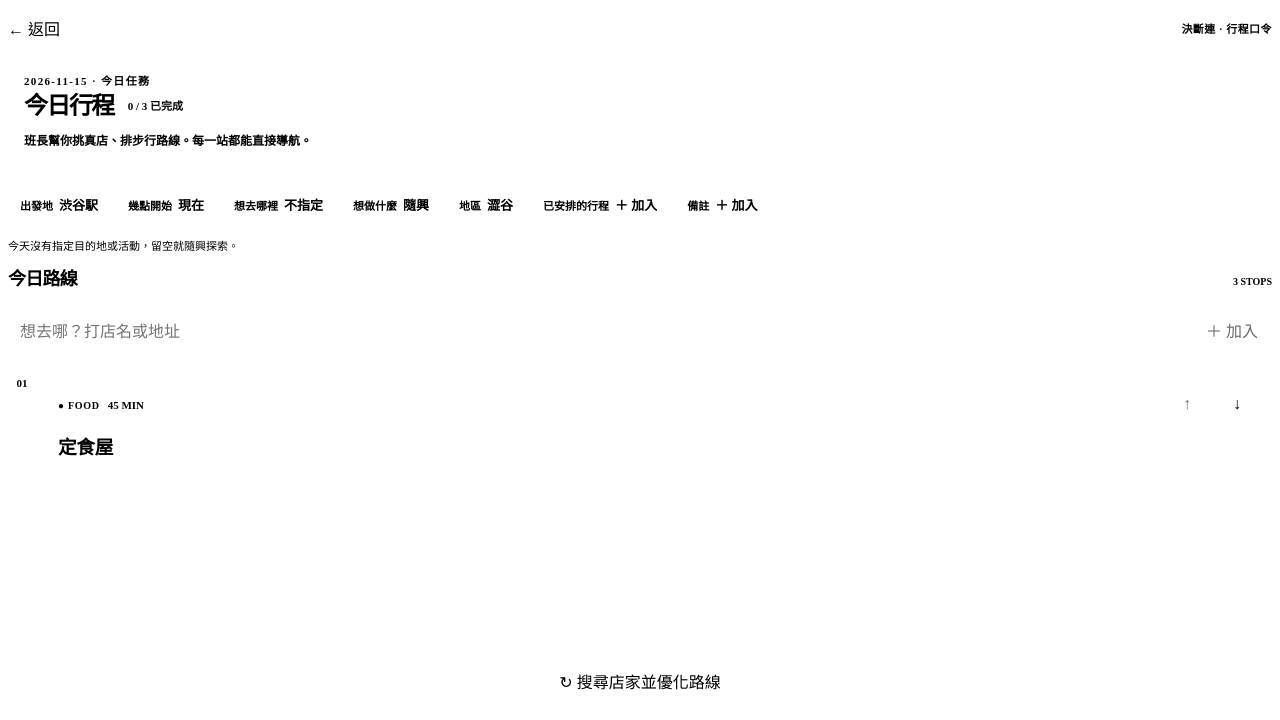
it: 手動排序（畫面） › 按下移 → 畫面與存檔順序都變、存下 manualOrder；「照這個順序更新時間」送 manualOrder＋reorderOnly，站序＝使用者順序
What coordinates should you click on to do the following:
click the button with test id "daily-move-down-meal"
I would click on:
 (1237, 404)
Its box is top-left (1215, 382), bottom-right (1259, 426).
(page scrolled)
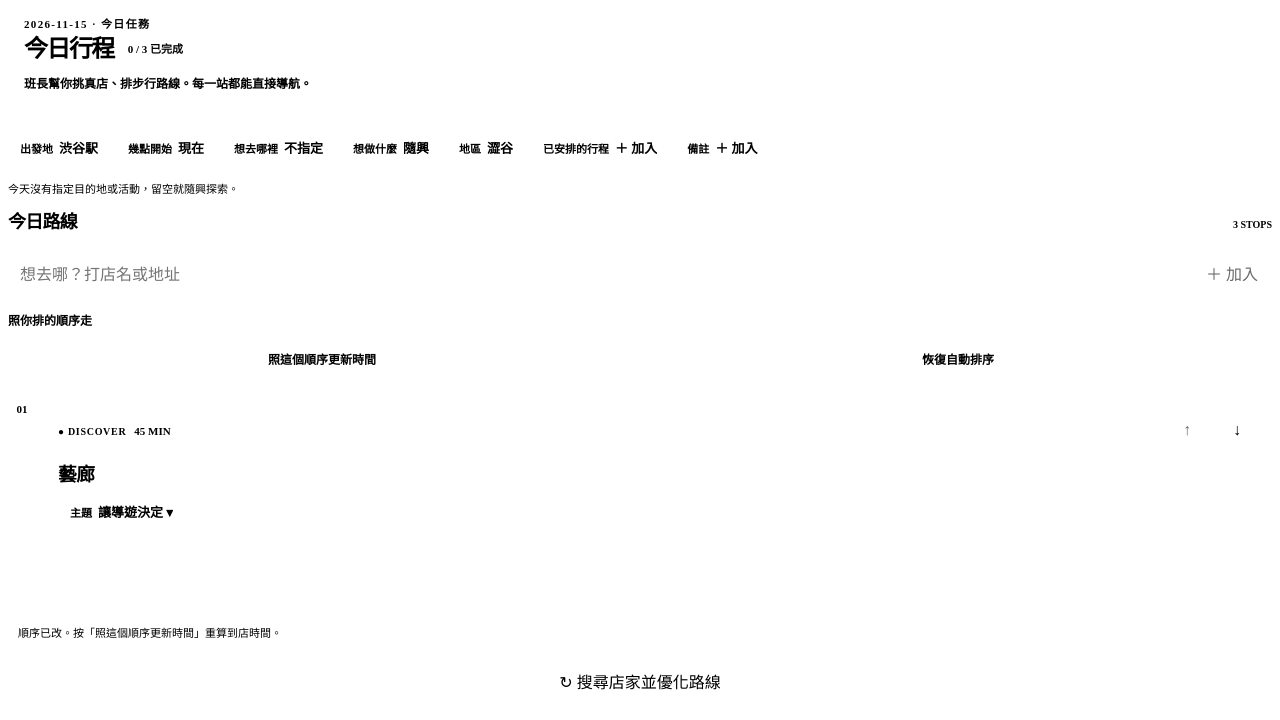
What coordinates should you click on to do the following:
click the button with test id "daily-order-apply"
I would click on:
 (322, 361)
Its box is top-left (8, 339), bottom-right (636, 383).
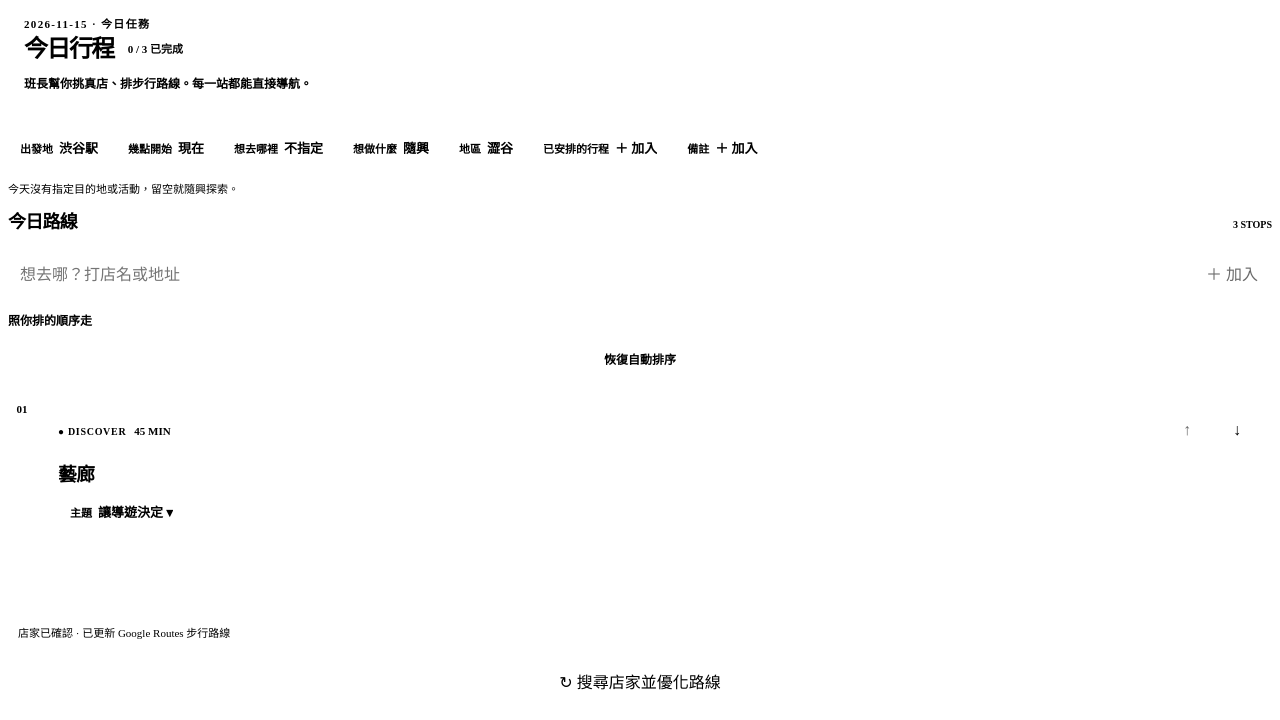
Expected: the button with test id "daily-generate" is enabled, top-left (8, 656), bottom-right (1272, 710)
Expected: the button with test id "daily-order-apply" is gone
